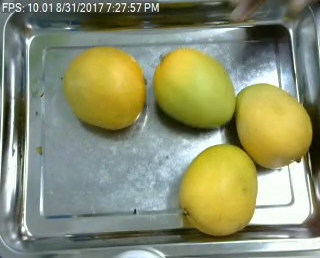Mango: (178, 143, 256, 234), (158, 47, 238, 128), (64, 46, 142, 128), (235, 82, 309, 166)
